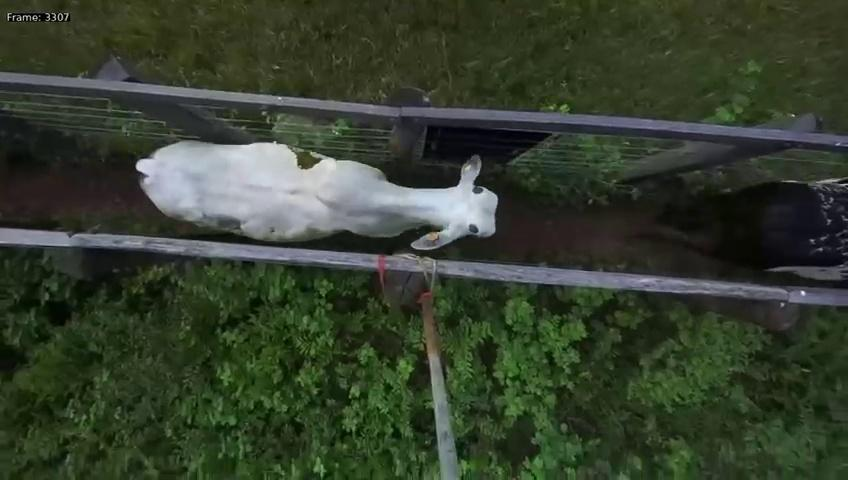cattle: (130, 124, 500, 255)
